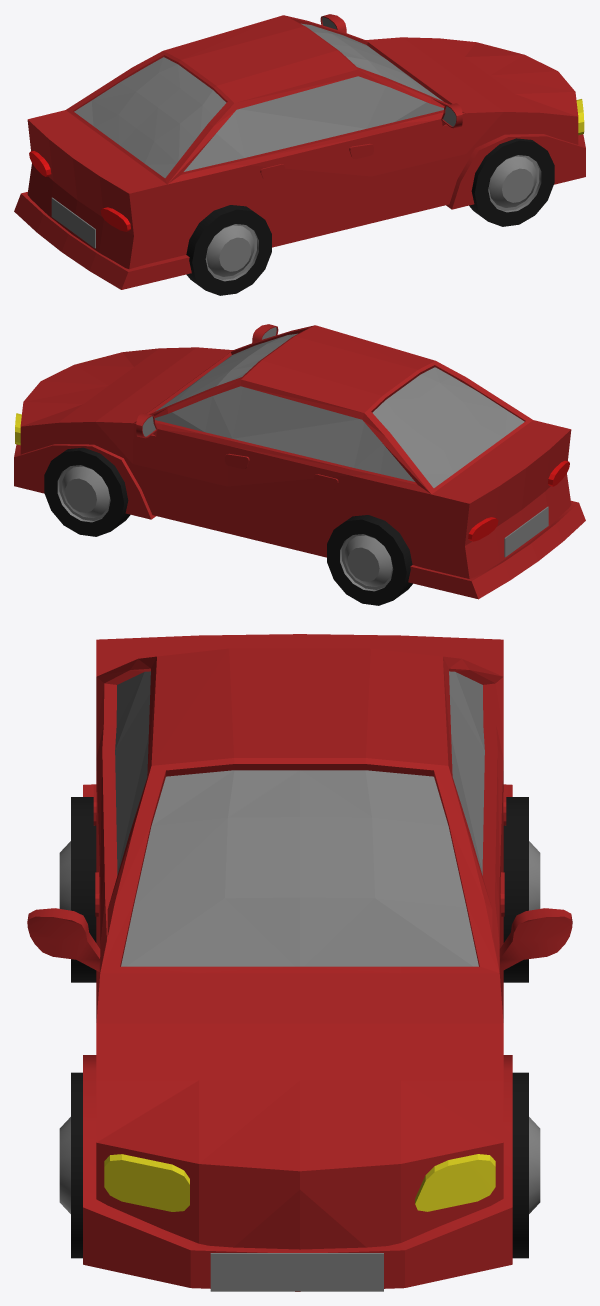
The model's file is SM_car_full.fbx.
3 renders of one model, top to bottom at view 1: azimuth 30°, elevation 25°; view 2: azimuth 150°, elevation 25°; view 3: azimuth 270°, elevation 25°, orthographic. The views are drawn at different scales.
Visible parts, largest first — view 1: Object113; view 2: Object113; view 3: Object113.
Boxes of the visible parts, <box> form: Object113: <box>14,14,585,295</box>; Object113: <box>14,324,585,605</box>; Object113: <box>27,634,572,1291</box>.
Bounding box in the file's own units: 171 × 81.02 × 58.67.
